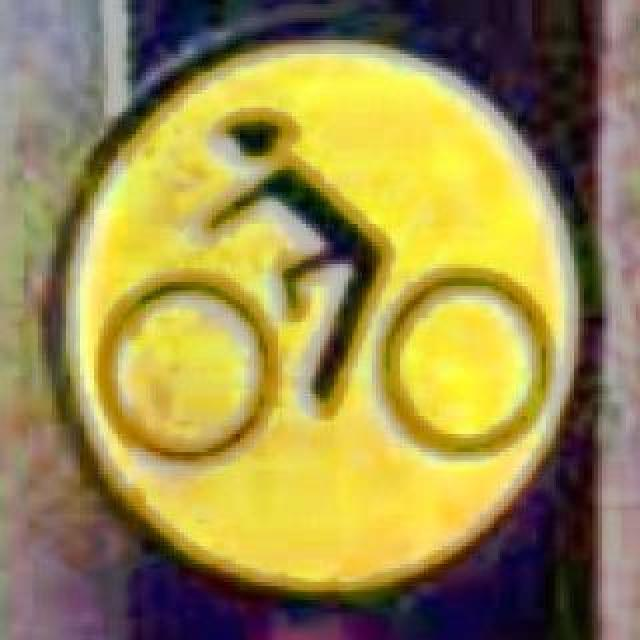bike lane: (38, 14, 602, 606)
